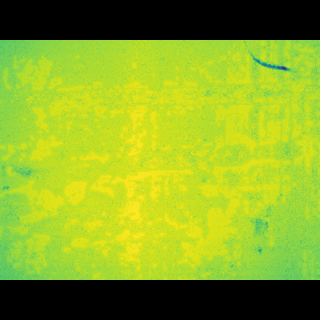Loch: (0, 130, 320, 248), (18, 103, 320, 126), (3, 72, 233, 102)
